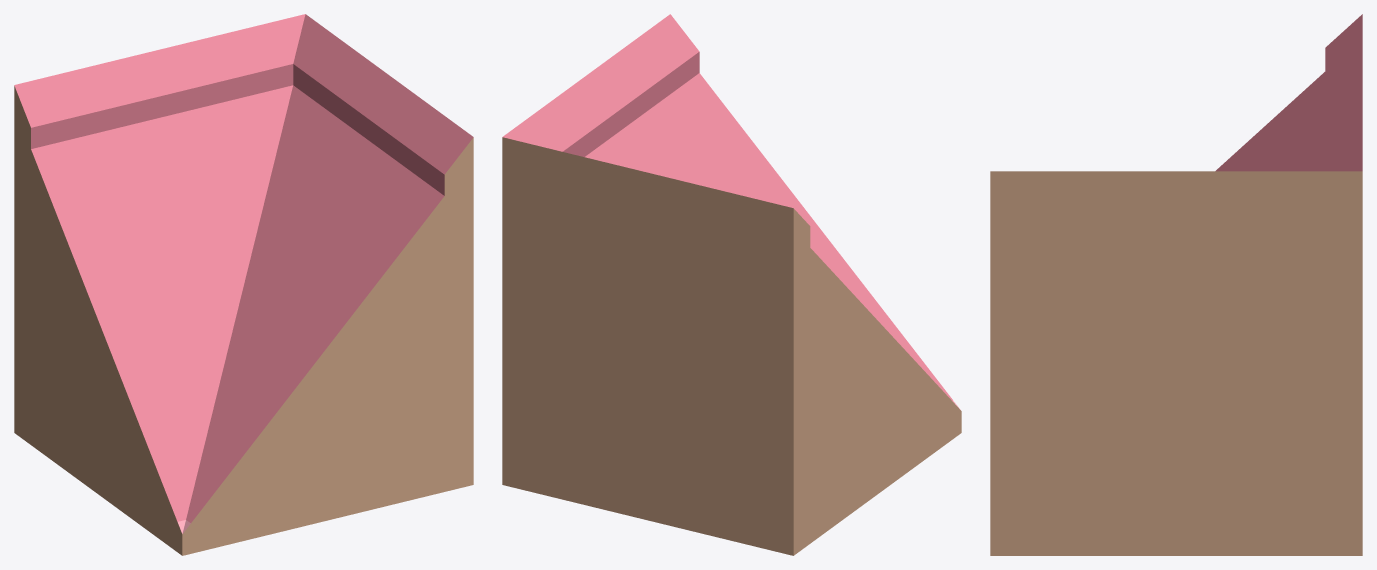
3 renders of one model, left to right at view 1: azimuth 30°, elevation 25°; view 2: azimuth 150°, elevation 25°; view 3: azimuth 270°, elevation 25°, orthographic. The views are drawn at different scales.
Parts seen in each view (by area): view 1: roofHighCornerInner; view 2: roofHighCornerInner; view 3: roofHighCornerInner.
Part boxes in pixels (bbox=[...]): roofHighCornerInner: bbox=[14, 14, 473, 555]; roofHighCornerInner: bbox=[502, 14, 961, 555]; roofHighCornerInner: bbox=[990, 14, 1362, 555].
Bounding box in the file's own units: 1 × 1.14 × 1.
